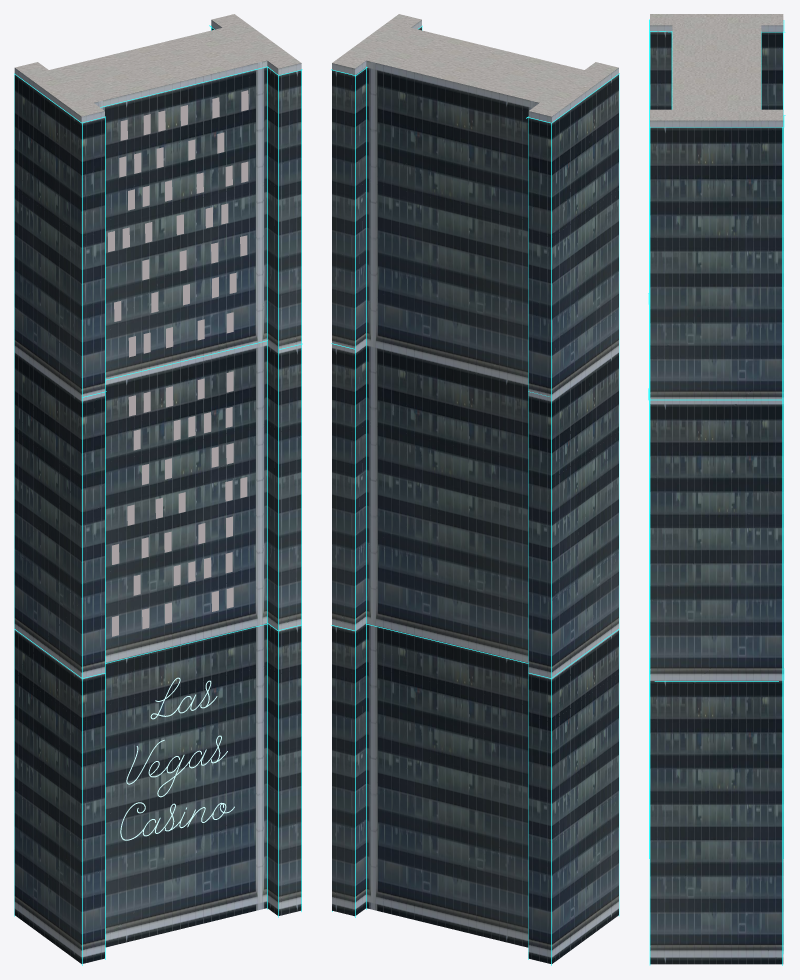
Rendered from GLOW-BUILDING1.fbx.
3 renders of one model, left to right at view 1: azimuth 30°, elevation 25°; view 2: azimuth 150°, elevation 25°; view 3: azimuth 270°, elevation 25°, orthographic.
Visible parts, largest first — view 1: building_007.007, Text.005, Cylinder.225, Cylinder.226, Cylinder.241, Cylinder.242, Cylinder.244, Cylinder.233; view 2: building_007.007, Cylinder.237, Cylinder.228, Cylinder.242, Cylinder.244, Cylinder.227; view 3: building_007.007, Cylinder.241, Cylinder.242, Cylinder.243, Cylinder.228, Cylinder.244.
Part boxes in pixels (box(x1,y1,x2,y2)): building_007.007: box(14, 14, 301, 963); Text.005: box(120, 677, 234, 840); Cylinder.225: box(278, 74, 278, 917); Cylinder.226: box(105, 117, 105, 959); Cylinder.241: box(301, 69, 301, 911); Cylinder.242: box(82, 123, 82, 965); Cylinder.244: box(14, 74, 14, 916); Cylinder.233: box(267, 67, 267, 909); building_007.007: box(332, 14, 618, 963); Cylinder.237: box(366, 66, 366, 909); Cylinder.228: box(355, 75, 355, 917); Cylinder.242: box(618, 74, 619, 915); Cylinder.244: box(551, 123, 551, 965); Cylinder.227: box(528, 118, 528, 959); building_007.007: box(650, 14, 783, 964); Cylinder.241: box(649, 127, 650, 965); Cylinder.242: box(649, 20, 649, 858); Cylinder.243: box(782, 127, 782, 965); Cylinder.228: box(783, 116, 783, 953); Cylinder.244: box(783, 33, 783, 858).
Size of the model in its own units: 1721 by 6312 by 931.
76 materials, 2 textured.
